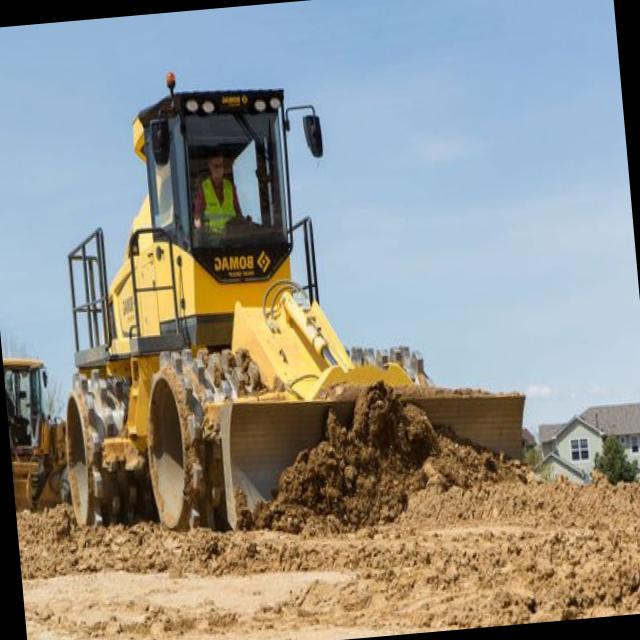red-sand: (17, 392, 640, 640)
